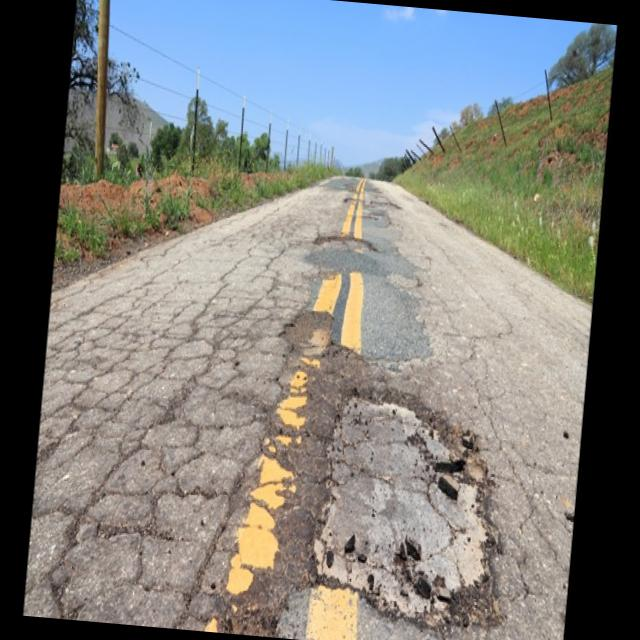Potholes: (294, 353, 538, 640), (272, 288, 361, 392), (298, 220, 388, 263), (342, 177, 399, 226)
